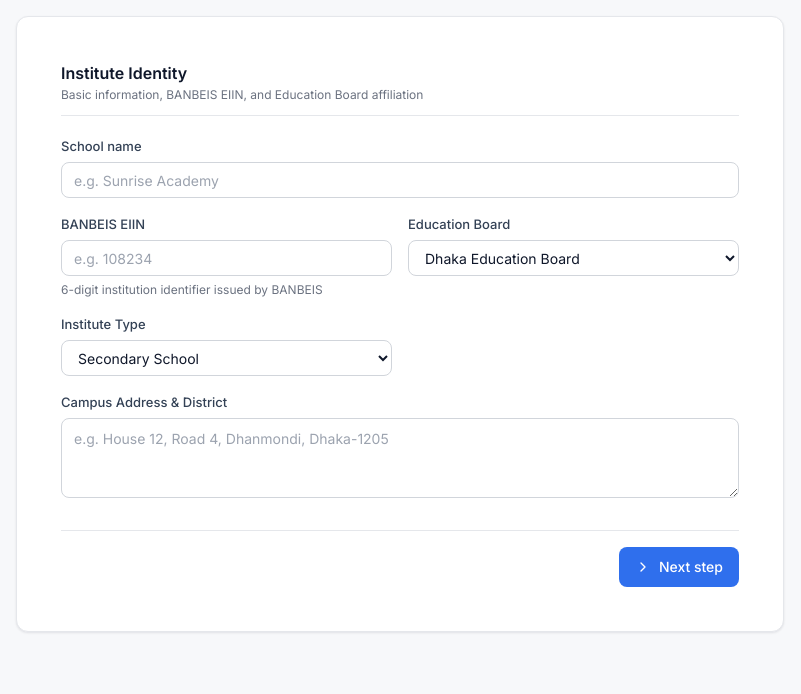
Test: Onboarding Component & Setup Wizard › blocks step 1 progression when school name or EIIN is invalid
(page scrolled)
Click the button "Next step" at (679, 567), box [619, 547, 739, 587]
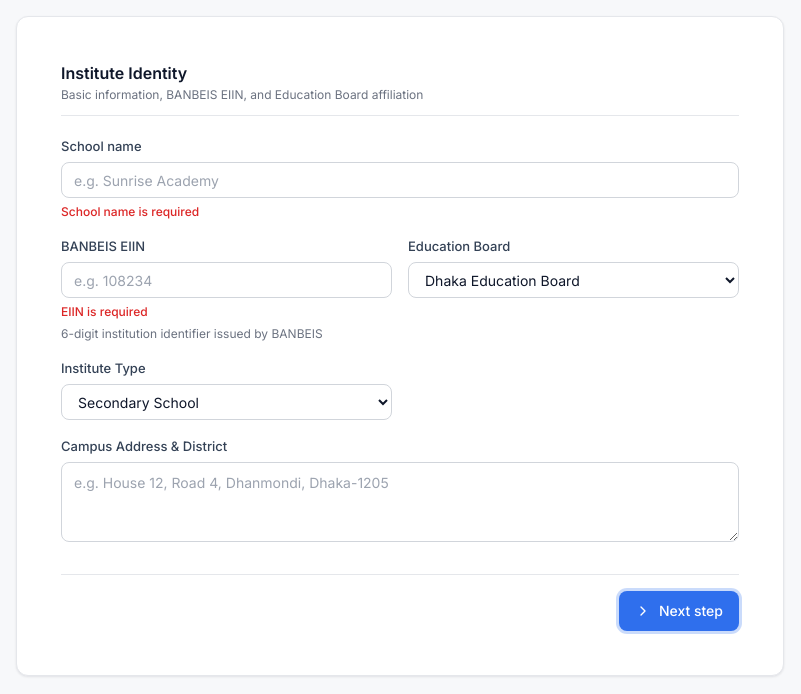
Result: the text "School name is required" is shown at [61, 204, 199, 219]
Type "Sunrise Model High School" into the field with placeholder "e.g. Sunrise Academy" at (400, 180), box [61, 162, 739, 198]
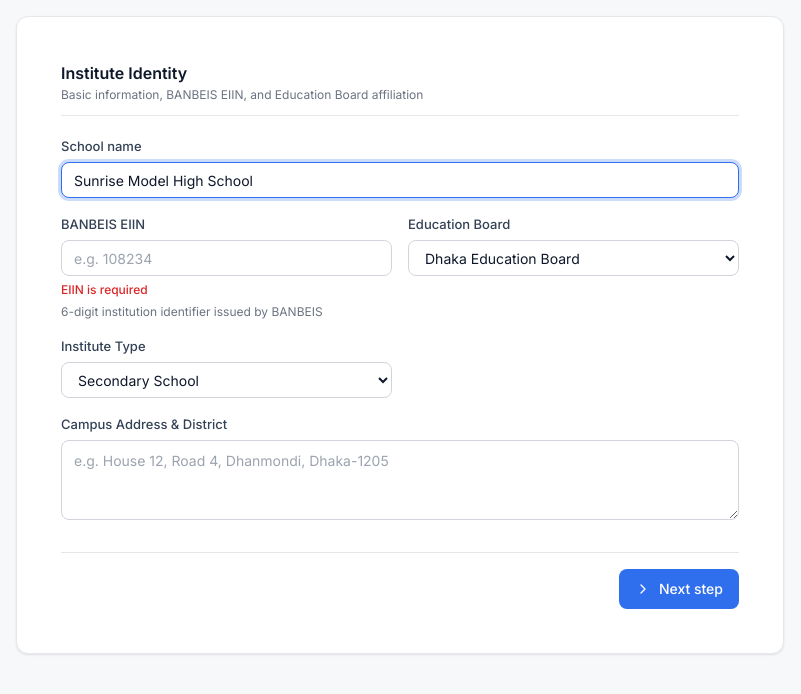
Type "12345" into the field with placeholder "e.g. 108234" at (226, 258), box [61, 240, 392, 276]
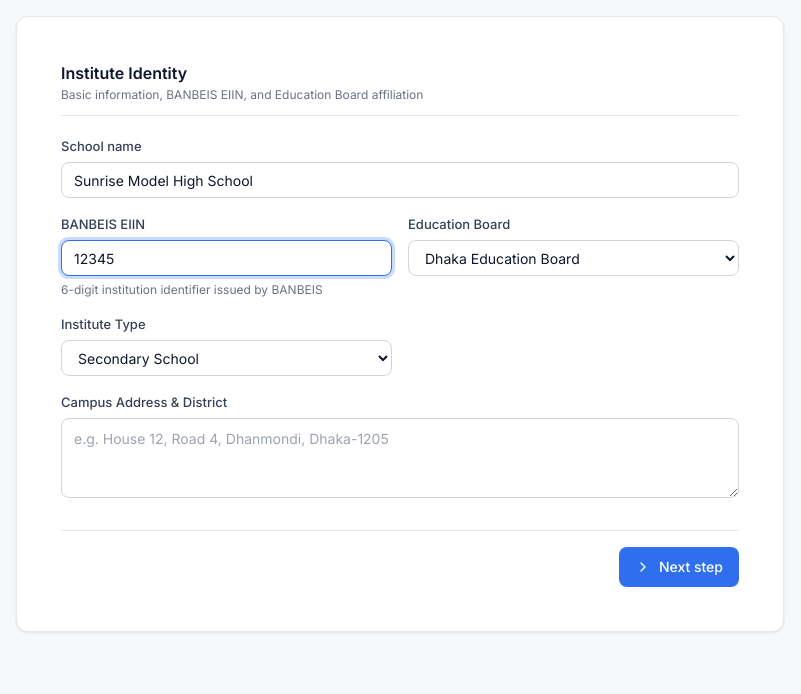
Click the button "Next step" at (679, 567), box [619, 547, 739, 587]
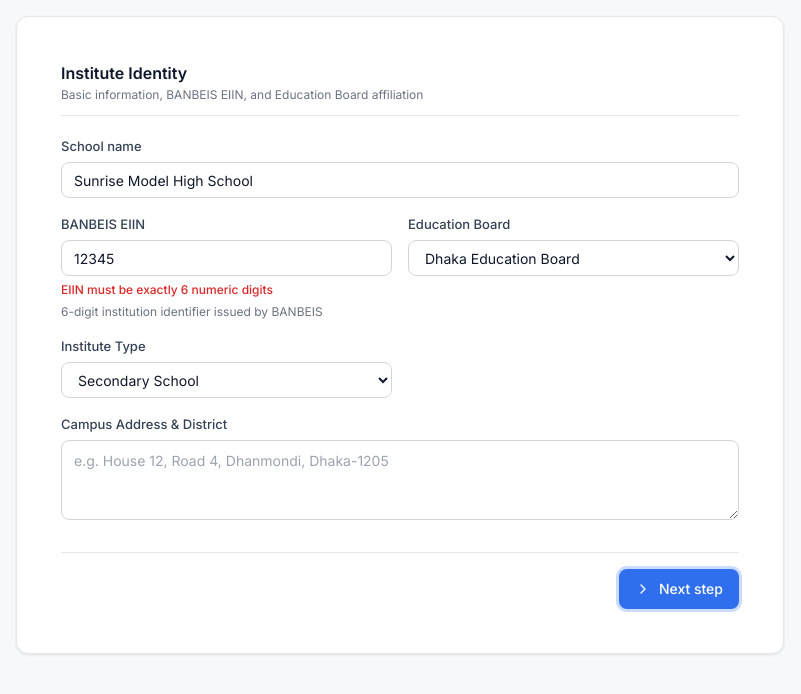
Result: the text "EIIN must be exactly 6 numeric digits" is shown at [61, 282, 273, 297]
